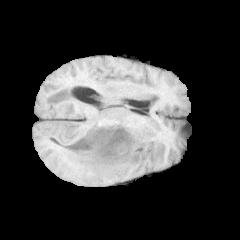glioma: (60, 122, 150, 182)
